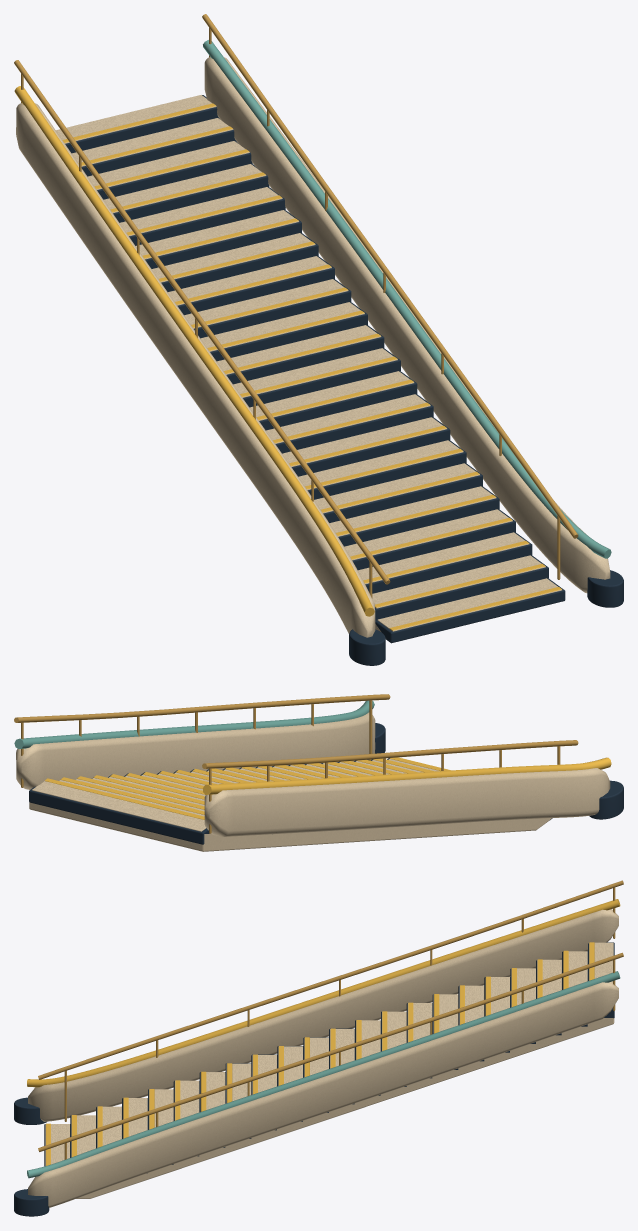
Rendered from main-stair.glb.
3 renders of one model, top to bottom at view 1: azimuth 30°, elevation 25°; view 2: azimuth 150°, elevation 25°; view 3: azimuth 270°, elevation 25°, orthographic. The views are drawn at different scales.
Parts seen in each view (by area): view 1: Main stair flowing shell 1, Main stair flowing shell -1, Main stair enamel crown -1, Main stair enamel crown 1, Main stair handrail 1, Main stair handrail -1, Main stair tread surface 0, Main stair tread surface 1, Main stair tread 0, Main stair tread surface 2, Main stair tread surface 3, Main stair tread 1 (+40 smaller); view 2: Main stair flowing shell -1, Main stair flowing shell 1, Main stair structural soffit, Main stair enamel crown -1, Main stair enamel crown 1, Main stair tread 21, Main stair handrail 1, Main stair handrail -1, Main stair tread surface 21, Main stair rounded toe -1, Main stair nosing 21, Main stair nosing 20 (+9 smaller); view 3: Main stair flowing shell 1, Main stair flowing shell -1, Main stair structural soffit, Main stair enamel crown 1, Main stair enamel crown -1, Main stair handrail 1, Main stair handrail -1, Main stair rounded toe 1, Main stair tread surface 5, Main stair tread surface 2, Main stair tread surface 3, Main stair tread surface 1 (+19 smaller).
Boxes of the visible parts, bbox=[...] form: Main stair flowing shell 1: bbox=[204, 57, 610, 593]; Main stair flowing shell -1: bbox=[16, 103, 375, 637]; Main stair enamel crown -1: bbox=[14, 86, 374, 616]; Main stair enamel crown 1: bbox=[203, 40, 611, 558]; Main stair handrail 1: bbox=[202, 14, 578, 538]; Main stair handrail -1: bbox=[14, 60, 390, 584]; Main stair tread surface 0: bbox=[377, 578, 562, 631]; Main stair tread surface 1: bbox=[372, 555, 545, 608]; Main stair tread 0: bbox=[375, 578, 565, 643]; Main stair tread surface 2: bbox=[358, 532, 529, 584]; Main stair tread surface 3: bbox=[344, 509, 512, 560]; Main stair tread 1: bbox=[375, 555, 548, 620]; Main stair flowing shell -1: bbox=[204, 768, 610, 836]; Main stair flowing shell 1: bbox=[16, 712, 375, 789]; Main stair structural soffit: bbox=[29, 802, 551, 851]; Main stair enamel crown -1: bbox=[202, 757, 611, 794]; Main stair enamel crown 1: bbox=[14, 700, 374, 748]; Main stair tread 21: bbox=[29, 786, 209, 844]; Main stair handrail 1: bbox=[14, 694, 390, 722]; Main stair handrail -1: bbox=[202, 740, 578, 768]; Main stair tread surface 21: bbox=[32, 781, 206, 831]; Main stair rounded toe -1: bbox=[589, 780, 623, 819]; Main stair nosing 21: bbox=[45, 778, 204, 819]; Main stair nosing 20: bbox=[60, 777, 204, 814]; Main stair flowing shell 1: bbox=[28, 981, 618, 1207]; Main stair flowing shell -1: bbox=[28, 909, 618, 1121]; Main stair structural soffit: bbox=[76, 1018, 614, 1198]; Main stair enamel crown 1: bbox=[27, 971, 620, 1178]; Main stair enamel crown -1: bbox=[27, 899, 620, 1087]; Main stair handrail 1: bbox=[38, 952, 623, 1151]; Main stair handrail -1: bbox=[38, 880, 623, 1079]; Main stair rounded toe 1: bbox=[14, 1189, 49, 1216]; Main stair tread surface 5: bbox=[174, 1080, 199, 1120]; Main stair tread surface 2: bbox=[97, 1106, 121, 1147]; Main stair tread surface 3: bbox=[123, 1098, 147, 1138]; Main stair tread surface 1: bbox=[71, 1115, 95, 1156].
Bounding box in the file's own units: 4.05 × 4.59 × 10.18.
5 materials, 1 textured.
